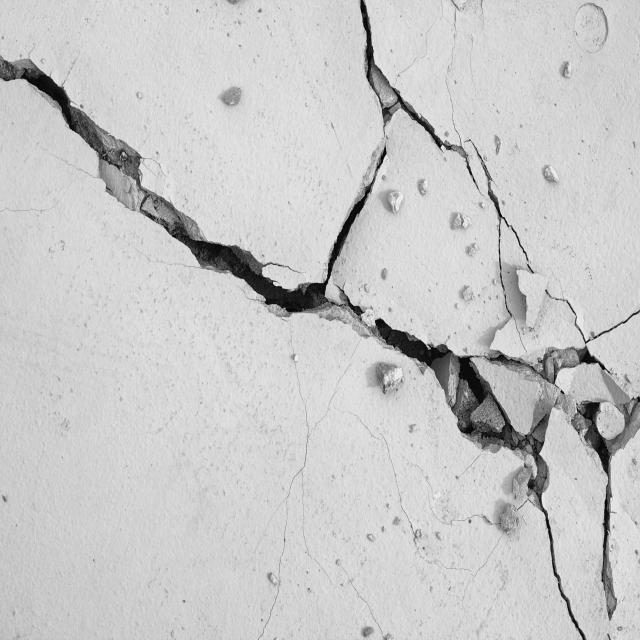Wall_Cracks: (4, 0, 638, 630)
